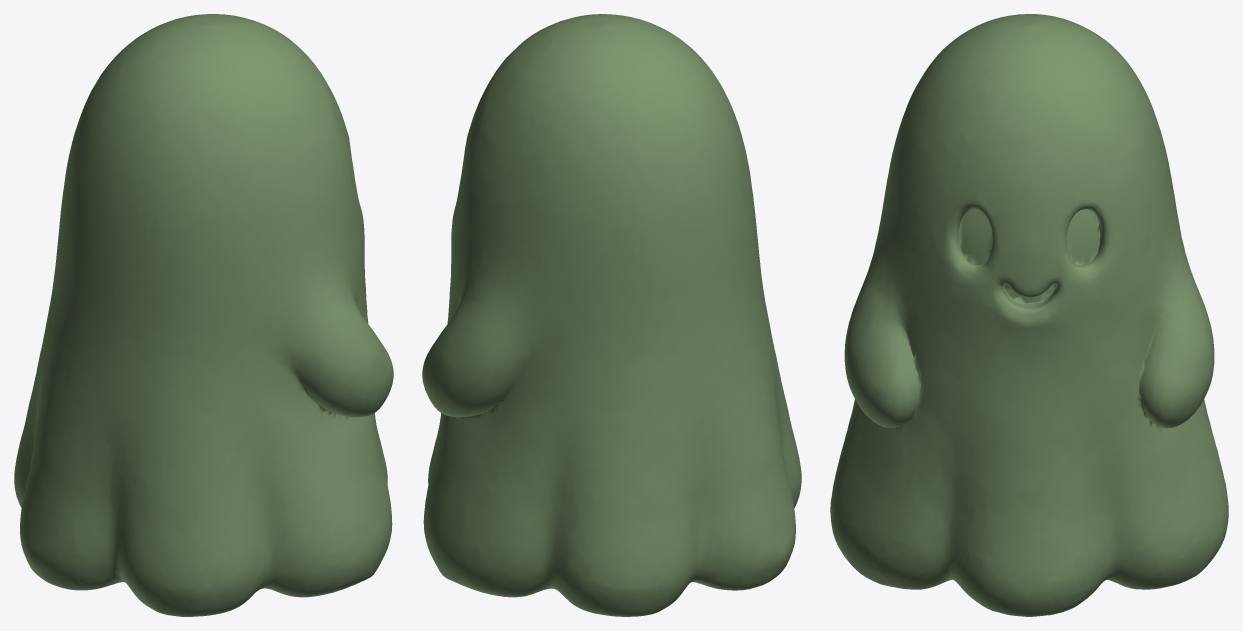
File: friendly-ghost.glb
3 renders of one model, left to right at view 1: azimuth 30°, elevation 25°; view 2: azimuth 150°, elevation 25°; view 3: azimuth 270°, elevation 25°, orthographic.
Visible parts, largest first — view 1: tripo_printable_source; view 2: tripo_printable_source; view 3: tripo_printable_source.
Boxes of the visible parts, box(x1,y1,x2,y2) form: tripo_printable_source: box(14, 14, 393, 616); tripo_printable_source: box(422, 14, 801, 616); tripo_printable_source: box(830, 14, 1228, 616).
Size of the model in its own units: 70 by 100 by 69.73.
